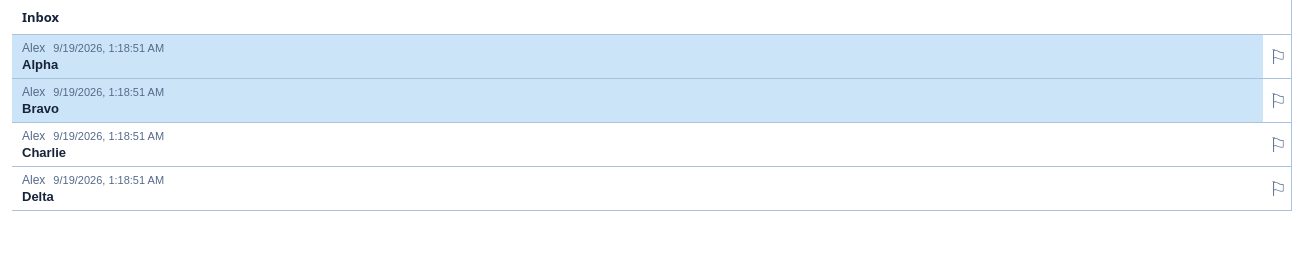
MessageListPane › 040 AC2: right-clicking a message already inside a multi-selection keeps that selection
Right-click the text "Bravo".
right_click(40, 108)  # box [22,101,59,116]
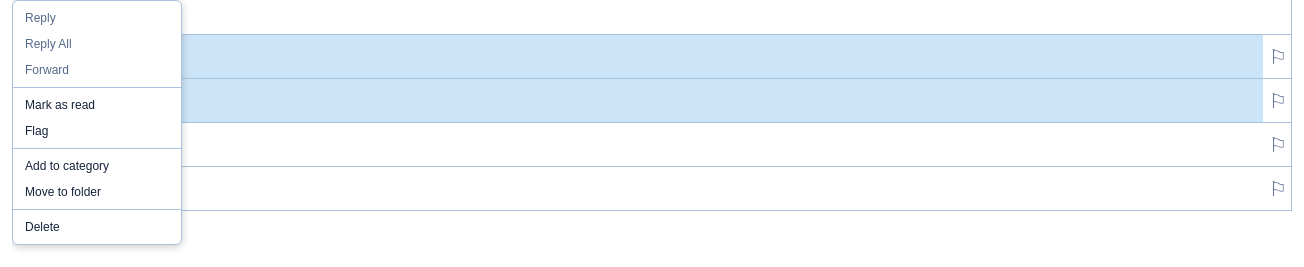
Now the menu item "Reply" is disabled, box [13,5,181,31]
